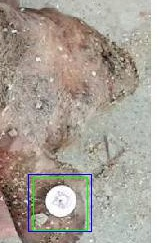text: (33, 177, 87, 230)
